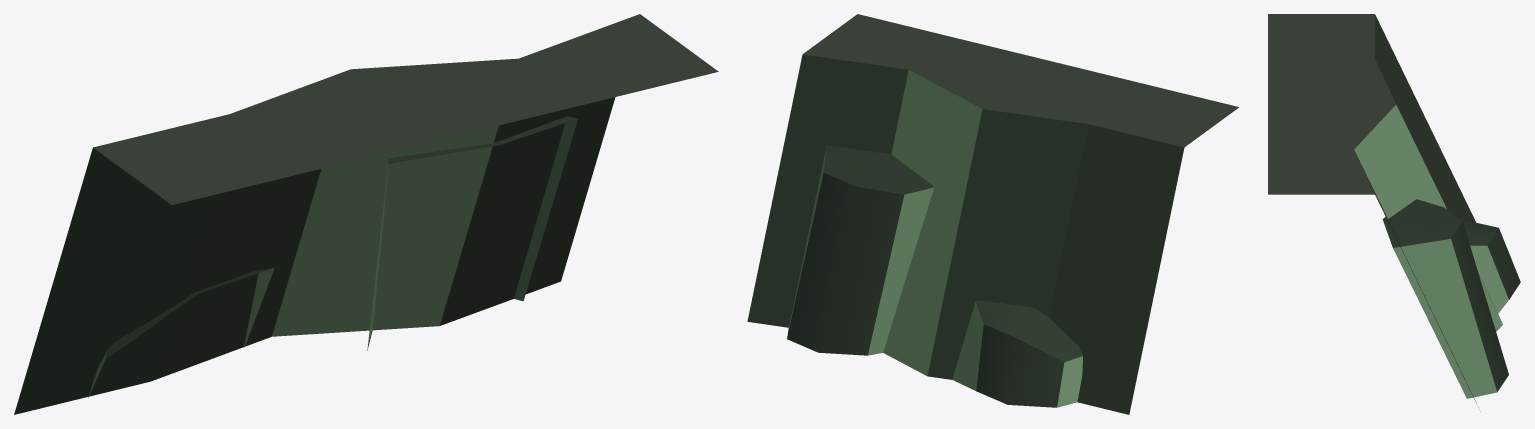
File: SF_Env_RockEdge_Straight_01.glb
3 renders of one model, left to right at view 1: azimuth 30°, elevation 25°; view 2: azimuth 150°, elevation 25°; view 3: azimuth 270°, elevation 25°, orthographic. The views are drawn at different scales.
Parts seen in each view (by area): view 1: SF_Env_RockEdge_Straight_01; view 2: SF_Env_RockEdge_Straight_01; view 3: SF_Env_RockEdge_Straight_01.
Boxes of the visible parts, x1,y1,x2,y2 form: SF_Env_RockEdge_Straight_01: (14, 14, 718, 414); SF_Env_RockEdge_Straight_01: (747, 14, 1238, 414); SF_Env_RockEdge_Straight_01: (1268, 14, 1520, 411).
Bounding box in the file's own units: 0.1 × 0.0568 × 0.0591.
Materials: 1 (1 with a texture image).
